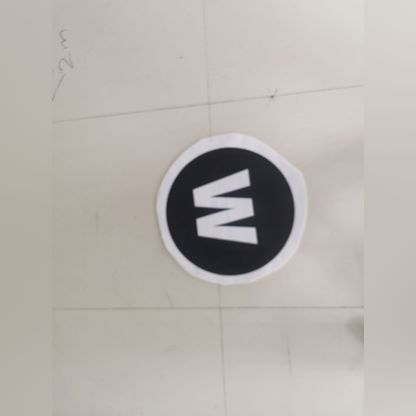W: (173, 158, 272, 262)
